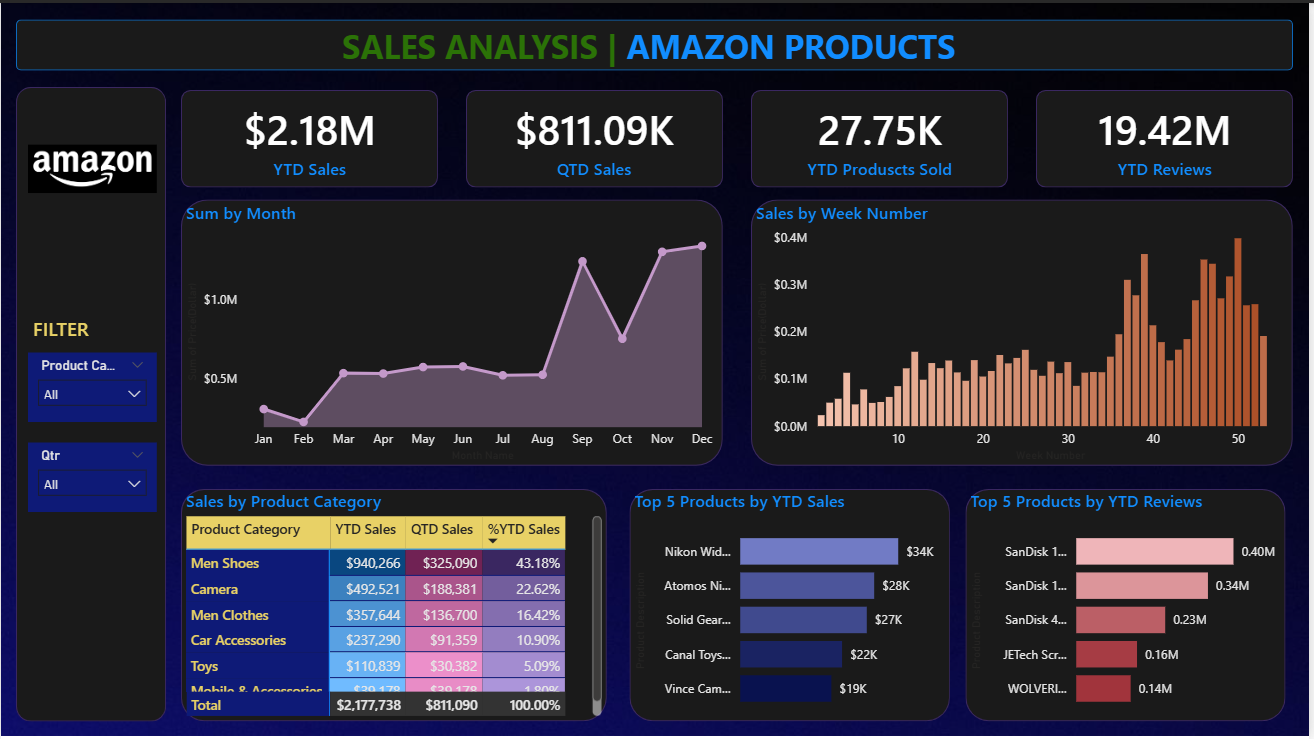

What the dashboard file says about the page in this screenshot:
{"tool":"powerbi","page":{"name":"Page 1","canvas":[1280,720],"ordinal":0},"visuals":[{"type":"shape","box":[454.8,84.8,251.4,95.4],"z":0},{"type":"shape","box":[15.1,16.7,1249.2,50],"z":1000},{"type":"textbox","box":[328.6,15.1,614.8,54.5],"z":2000},{"type":"shape","box":[15.1,81.8,146.9,620.8],"z":3000},{"type":"shape","box":[175.6,84.8,251.4,95.4],"z":4000},{"type":"card","fields":{"Values":["Amazon_Data.YTD Sales"]},"box":[175.6,84.8,251.4,95.4],"z":5000},{"type":"card","fields":{"Values":["Amazon_Data.QTD Sales"]},"box":[452.7,84.8,252.9,95.4],"z":6000},{"type":"shape","box":[733.9,84.8,251.4,95.4],"z":7000},{"type":"shape","box":[1013,84.8,251.4,95.4],"z":8000},{"type":"card","fields":{"Values":["Amazon_Data.YTD Produscts Sold"]},"box":[734.4,84.8,251.4,95.4],"z":9000},{"type":"card","fields":{"Values":["Amazon_Data.YTD Reviews"]},"box":[1013,84.8,251.4,95.4],"z":10000},{"type":"shape","box":[175.6,192.3,530,260.4],"z":11000},{"type":"stackedAreaChart","title":"Sum by Month","fields":{"Category":["Date Table.Month Name"],"Y":["Sum(Amazon_Data.Price(Dollar))"]},"box":[175.6,193.8,530,258.9],"z":12000},{"type":"shape","box":[734.4,192.3,530,260.4],"z":13000},{"type":"columnChart","title":"Sales by Week Number","fields":{"Category":["Date Table.Week Number"],"Y":["Sum(Amazon_Data.Price(Dollar))"]},"box":[734.4,193.8,530,258.9],"z":14000},{"type":"shape","box":[175.6,475.5,416.4,227.1],"z":15000},{"type":"pivotTable","title":"Sales by Product Category","fields":{"Rows":["Amazon_Data.Product Category"],"Values":["Amazon_Data.YTD Sales1","Amazon_Data.QTD Sales","Amazon_Data.YTD Sales"]},"box":[175.6,475.5,416.4,227.1],"z":16000},{"type":"shape","box":[614.8,475.5,313.4,227.1],"z":17000},{"type":"shape","box":[943.3,475.5,313,227.1],"z":18000},{"type":"clusteredBarChart","title":"Top 5 Products by YTD Sales","fields":{"Category":["Amazon_Data.Product Description"],"Y":["Amazon_Data.YTD Sales"]},"box":[614.8,475.5,313.4,227.1],"z":19000},{"type":"clusteredBarChart","title":"Top 5 Products by YTD Reviews","fields":{"Category":["Amazon_Data.Product Description"],"Y":["Amazon_Data.YTD Reviews"]},"box":[943.3,475.5,313.4,227.1],"z":20000},{"type":"slicer","fields":{"Values":["Amazon_Data.Product Category"]},"box":[25.7,342.2,125.7,68.1],"z":21000},{"type":"slicer","fields":{"Values":["Date Table.Qtr"]},"box":[25.7,430,125.7,68.1],"z":22000},{"type":"image","box":[25.7,116.6,125.7,92.4],"z":23000},{"type":"textbox","box":[25.7,301.3,75.7,40.9],"z":24000}]}

Visuals, with their boxes in screenshot pixels (x1, y1, x2, y2), scaled from the page's 1280x720 canvas onto the 1314x739 screenshot:
shape: 467:87:725:185
shape: 16:17:1298:68
textbox: 337:15:968:71
shape: 16:84:166:721
shape: 180:87:438:185
card - Amazon_Data.YTD Sales: 180:87:438:185
card - Amazon_Data.QTD Sales: 465:87:724:185
shape: 753:87:1011:185
shape: 1040:87:1298:185
card - Amazon_Data.YTD Produscts Sold: 754:87:1012:185
card - Amazon_Data.YTD Reviews: 1040:87:1298:185
shape: 180:197:724:465
"Sum by Month" stackedAreaChart: 180:199:724:465
shape: 754:197:1298:465
"Sales by Week Number" columnChart: 754:199:1298:465
shape: 180:488:608:721
"Sales by Product Category" pivotTable: 180:488:608:721
shape: 631:488:953:721
shape: 968:488:1290:721
"Top 5 Products by YTD Sales" clusteredBarChart: 631:488:953:721
"Top 5 Products by YTD Reviews" clusteredBarChart: 968:488:1290:721
slicer - Amazon_Data.Product Category: 26:351:155:421
slicer - Date Table.Qtr: 26:441:155:511
image: 26:120:155:215
textbox: 26:309:104:351
